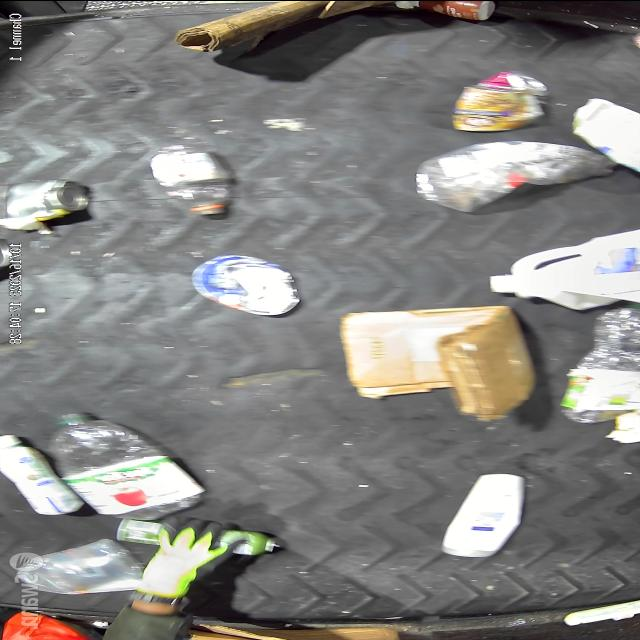can: (190, 253, 296, 316), (446, 66, 550, 130), (7, 174, 86, 224)
milk_jug: (477, 232, 640, 310)
plastic_bottle: (54, 410, 185, 518), (418, 142, 608, 212), (557, 312, 640, 424), (144, 136, 243, 212)
